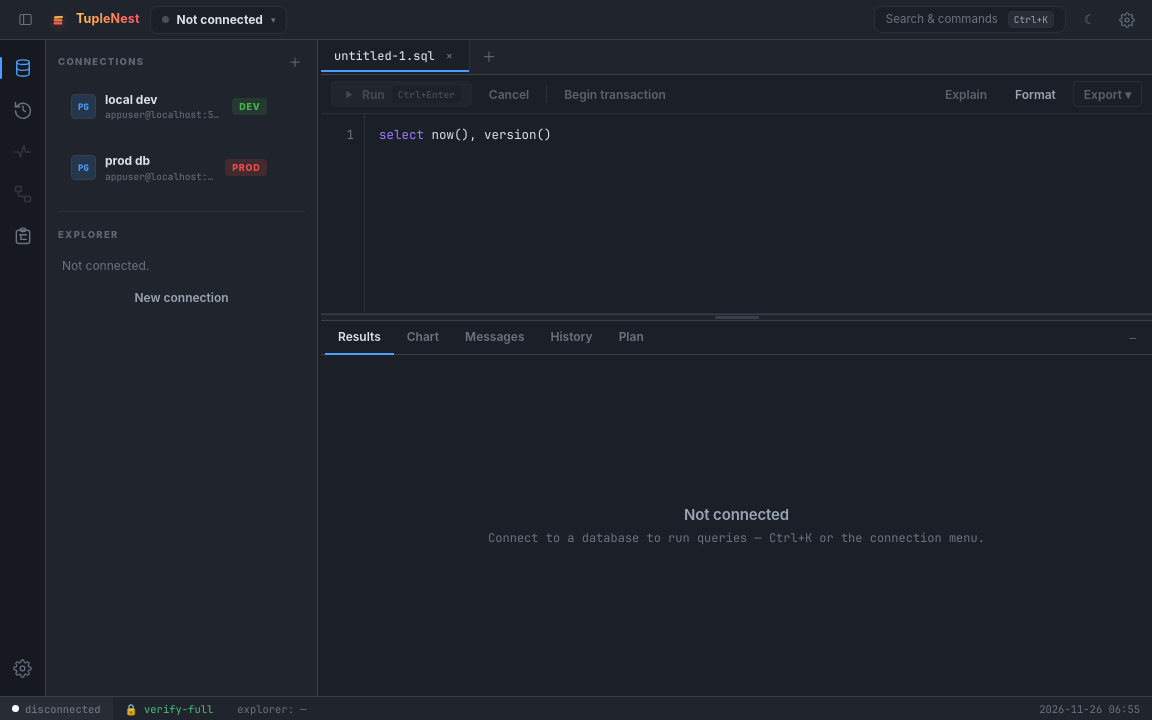
App — Save & Connect › does not connect when the save fails
Expected: the text "local dev" is shown, x1=105 y1=91 x2=158 y2=108
Click the button with class "conn-open" that starts with "local dev" at (169, 107), box x1=63 y1=84 x2=275 y2=129
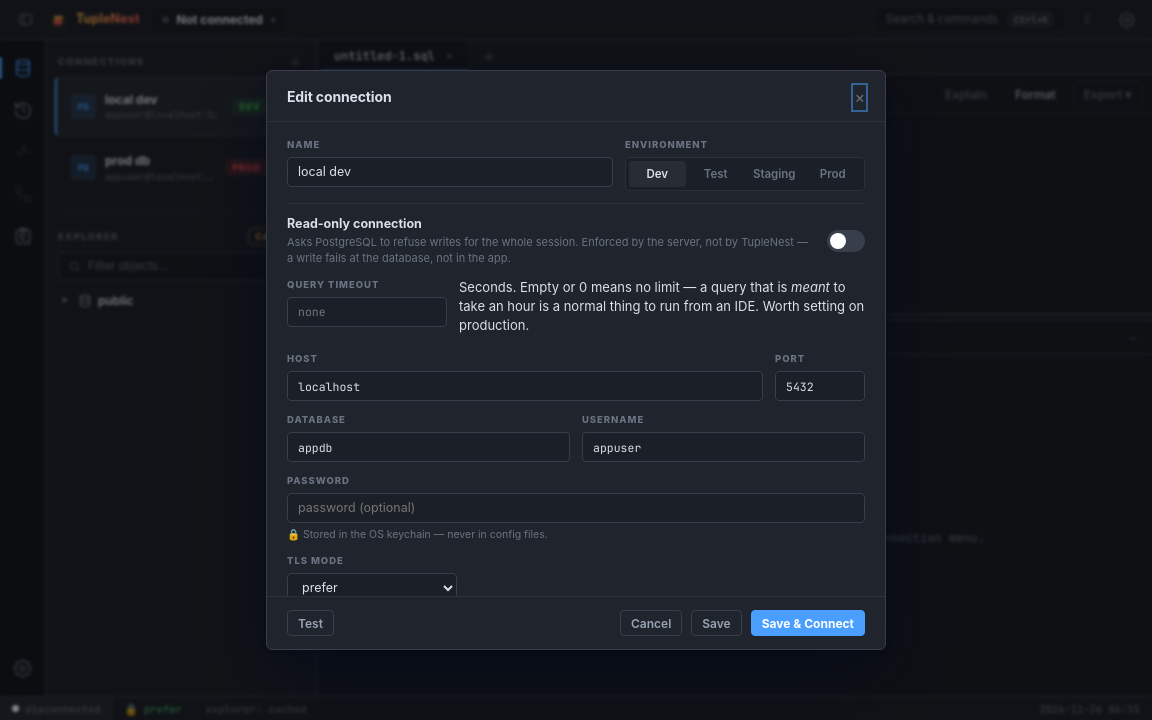
Result: the text "Edit connection" is shown at x1=287 y1=87 x2=392 y2=108
Click the button "Save & Connect" at (808, 623), box x1=751 y1=610 x2=865 y2=636
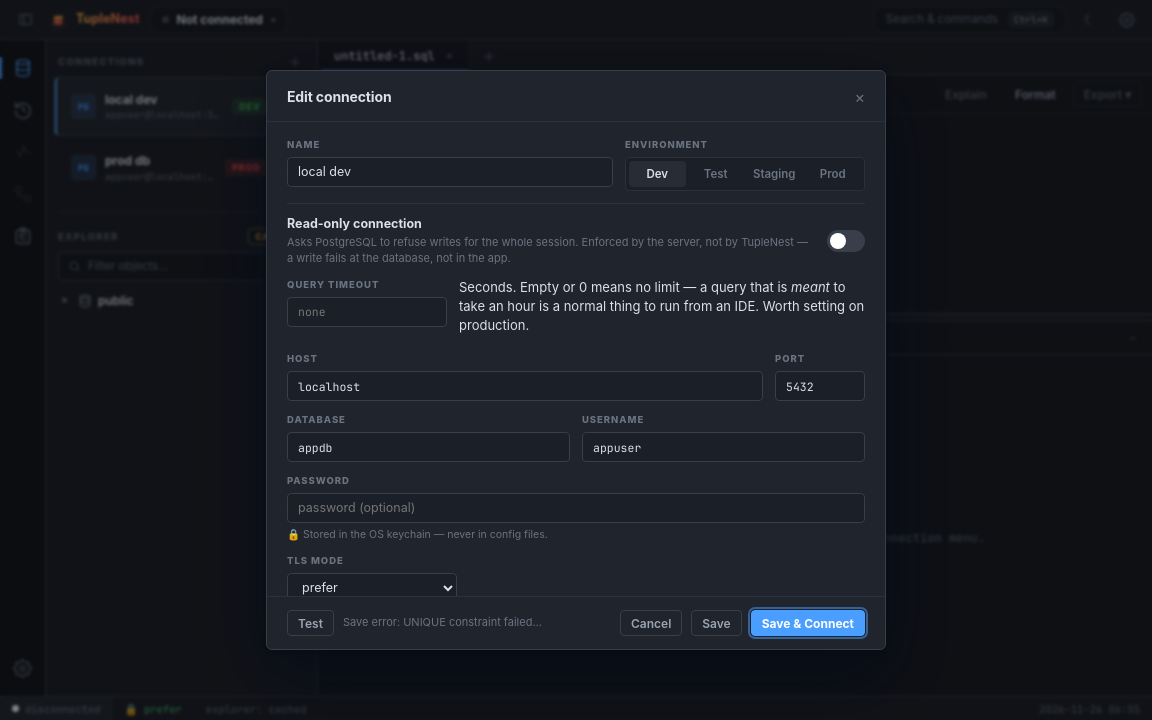
Result: the text "Save error: UNIQUE constraint failed: connections.name" is shown at x1=343 y1=615 x2=543 y2=631
